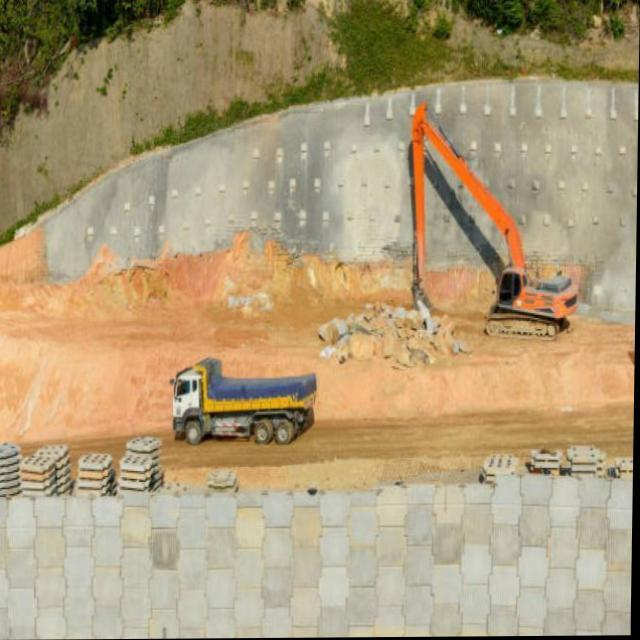covered: (170, 365, 320, 446)
